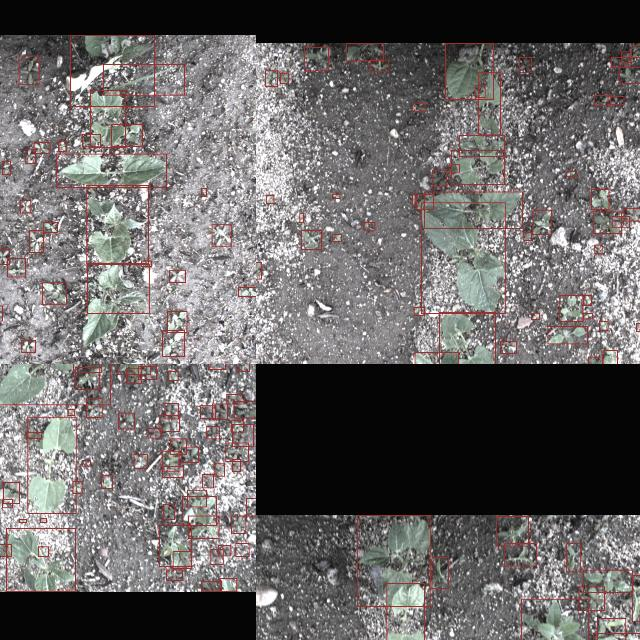crop: (421, 202, 505, 314), (357, 514, 429, 606), (70, 36, 154, 106), (86, 185, 148, 263), (27, 417, 75, 513), (5, 528, 74, 592), (0, 364, 109, 404), (56, 154, 166, 188), (424, 192, 522, 228), (86, 264, 148, 314), (439, 312, 495, 364), (445, 43, 493, 99), (386, 582, 424, 640), (90, 90, 124, 148), (451, 150, 504, 184), (478, 72, 500, 134), (414, 352, 458, 364)
weed: (520, 598, 587, 640), (102, 64, 184, 95), (159, 526, 191, 566), (582, 570, 632, 592), (182, 496, 216, 526), (458, 135, 504, 157), (496, 516, 528, 546), (504, 542, 536, 566), (547, 326, 587, 344), (110, 124, 142, 146), (592, 212, 622, 234), (188, 516, 218, 538), (596, 618, 625, 640), (578, 586, 604, 610), (346, 44, 382, 60), (304, 46, 328, 70), (161, 331, 183, 357), (560, 296, 582, 322), (18, 56, 38, 84), (430, 558, 448, 588), (42, 282, 66, 304), (75, 367, 99, 389), (532, 210, 552, 234), (300, 230, 322, 250), (226, 442, 248, 462), (232, 424, 252, 446), (566, 542, 580, 572), (631, 575, 640, 621), (166, 312, 186, 332), (212, 224, 230, 246), (618, 66, 640, 84), (233, 402, 256, 418), (7, 258, 25, 278), (590, 189, 608, 209), (3, 482, 19, 503), (592, 633, 640, 640), (117, 364, 150, 374), (187, 489, 206, 506), (85, 398, 101, 418), (159, 415, 179, 431), (162, 451, 178, 471), (172, 552, 192, 568), (29, 230, 43, 252), (416, 194, 434, 210), (180, 447, 198, 463), (230, 516, 246, 534), (170, 438, 187, 454), (118, 413, 134, 429), (138, 366, 156, 380), (220, 578, 237, 592), (432, 170, 446, 186), (73, 364, 101, 372), (162, 467, 182, 478), (81, 134, 99, 146), (611, 216, 629, 228), (370, 59, 388, 71), (601, 350, 616, 364), (623, 209, 640, 221), (201, 582, 221, 592), (245, 498, 256, 516), (126, 368, 140, 382), (164, 404, 178, 418), (133, 454, 147, 468), (212, 404, 226, 418), (169, 270, 185, 282), (33, 142, 49, 154), (519, 56, 531, 72), (500, 342, 516, 354), (265, 70, 277, 86), (162, 504, 174, 520), (237, 287, 256, 297), (610, 57, 628, 67), (226, 394, 244, 404), (21, 340, 35, 352), (200, 406, 214, 418), (210, 550, 222, 564), (201, 474, 213, 488), (25, 148, 35, 164), (594, 95, 610, 105), (166, 570, 182, 580), (0, 249, 9, 265), (100, 476, 112, 488), (236, 544, 248, 556), (206, 427, 218, 439), (42, 222, 56, 232), (474, 84, 484, 98), (231, 421, 243, 432), (607, 96, 623, 104), (20, 200, 30, 212), (630, 45, 640, 57), (0, 545, 10, 557), (72, 481, 82, 493), (148, 428, 160, 438), (214, 464, 224, 476), (218, 546, 230, 556), (412, 102, 424, 111), (620, 52, 630, 62), (38, 547, 48, 557), (2, 498, 12, 508), (167, 371, 177, 381), (588, 357, 602, 364), (235, 364, 249, 371), (2, 162, 10, 174), (232, 459, 240, 471), (598, 322, 608, 331), (256, 262, 261, 279), (207, 364, 224, 369), (26, 432, 40, 438), (58, 141, 66, 151), (583, 295, 591, 305), (449, 165, 459, 173), (413, 307, 423, 315), (280, 73, 288, 83), (364, 222, 374, 230), (594, 244, 602, 253), (332, 234, 341, 242), (523, 232, 531, 240), (531, 312, 539, 320), (265, 195, 273, 203), (200, 188, 206, 196), (82, 460, 90, 466), (141, 262, 151, 266), (635, 324, 640, 332), (582, 314, 592, 318), (566, 172, 576, 176), (68, 409, 74, 415), (299, 214, 303, 222), (331, 194, 339, 198), (412, 194, 414, 206), (40, 519, 46, 523), (18, 520, 26, 522)
